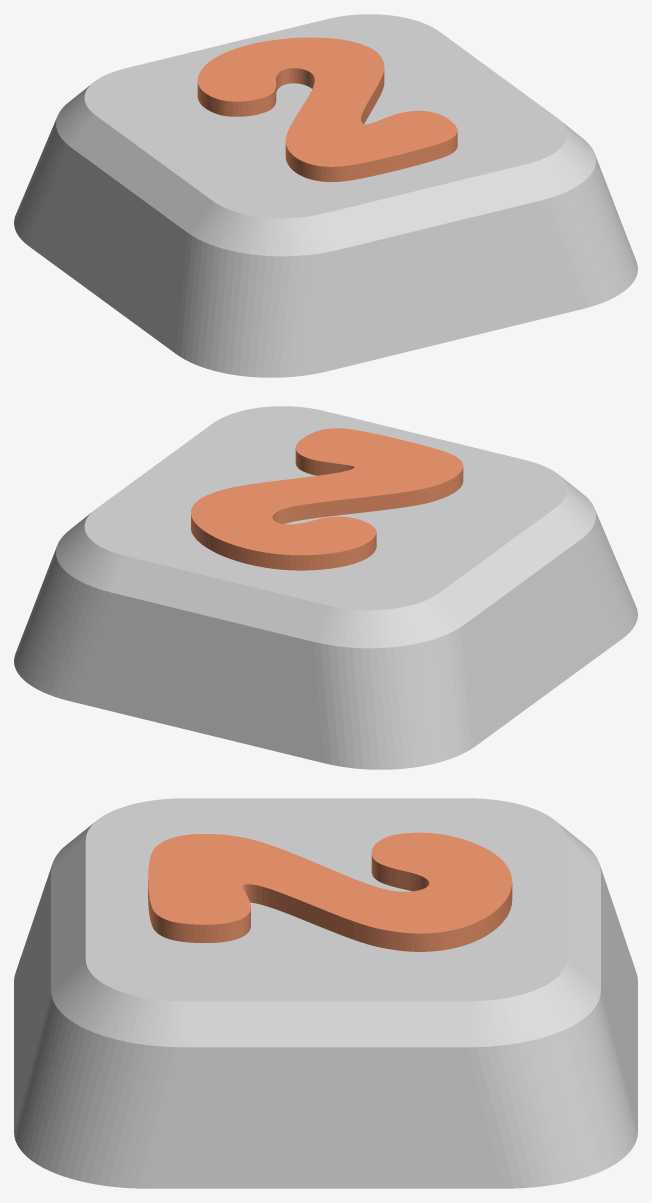
The model's file is cap-2.glb.
3 views of the same model, one above another, from view 1: azimuth 30°, elevation 25°; view 2: azimuth 150°, elevation 25°; view 3: azimuth 270°, elevation 25° (orthographic). The views are drawn at different scales.
Visible parts, largest first — view 1: cap_0, glyph_1; view 2: cap_0, glyph_1; view 3: cap_0, glyph_1.
Part boxes in pixels (left/top/right/bottom): cap_0: left=14, top=14, right=637, bottom=377; glyph_1: left=197, top=37, right=457, bottom=181; cap_0: left=14, top=406, right=637, bottom=769; glyph_1: left=191, top=428, right=463, bottom=570; cap_0: left=14, top=798, right=637, bottom=1188; glyph_1: left=148, top=832, right=512, bottom=951.
Bounding box in the file's own units: 18 × 5.59 × 18.
